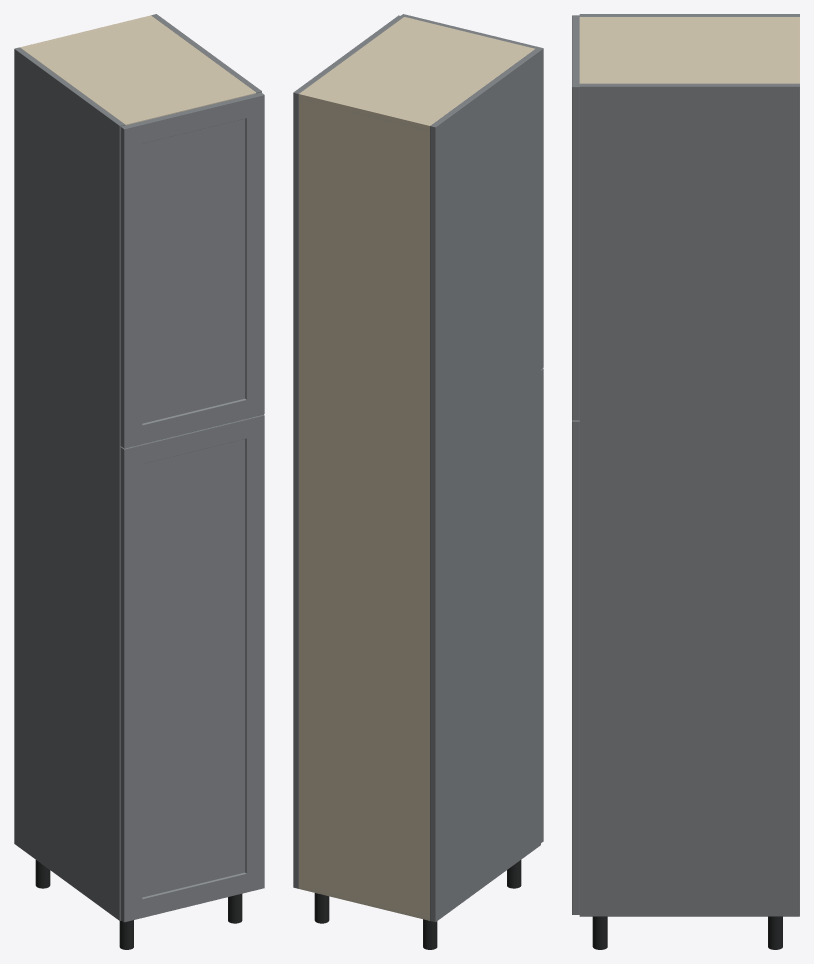
The model's file is oppein-ply-gss-pc1896.glb.
3 views of the same model, side by side, from view 1: azimuth 30°, elevation 25°; view 2: azimuth 150°, elevation 25°; view 3: azimuth 270°, elevation 25° (orthographic). The views are drawn at different scales.
Parts seen in each view (by area): view 1: Cabinet side, Door, Door.001, Cabinet top, Cabinet side.001; view 2: Cabinet back, Cabinet side, Cabinet top, Cabinet side.001, Door, Door.001, Cabinet bottom; view 3: Cabinet side.001, Cabinet top, Door, Door.001, Cabinet side, Adjustable foot.003, Adjustable foot.002.
Boxes of the visible parts, x1=… form: Cabinet side: x1=14, y1=47, x2=125, y2=920; Door: x1=120, y1=414, x2=264, y2=922; Door.001: x1=120, y1=92, x2=264, y2=448; Cabinet top: x1=22, y1=17, x2=256, y2=125; Cabinet side.001: x1=151, y1=14, x2=261, y2=93; Cabinet back: x1=299, y1=92, x2=431, y2=920; Cabinet side: x1=430, y1=49, x2=540, y2=922; Cabinet top: x1=299, y1=17, x2=534, y2=131; Cabinet side.001: x1=293, y1=15, x2=403, y2=888; Door: x1=541, y1=368, x2=543, y2=842; Door.001: x1=401, y1=14, x2=543, y2=369; Cabinet bottom: x1=299, y1=884, x2=429, y2=920; Cabinet side.001: x1=579, y1=83, x2=799, y2=916; Cabinet top: x1=579, y1=17, x2=795, y2=83; Door: x1=572, y1=420, x2=579, y2=914; Door.001: x1=572, y1=15, x2=579, y2=420; Cabinet side: x1=579, y1=14, x2=799, y2=16; Adjustable foot.003: x1=592, y1=916, x2=607, y2=949; Adjustable foot.002: x1=768, y1=916, x2=782, y2=949.
Size of the model in its own units: 0.4572 by 2.55 by 0.6064.
